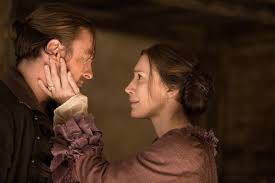Bad: (1, 6, 218, 183)
